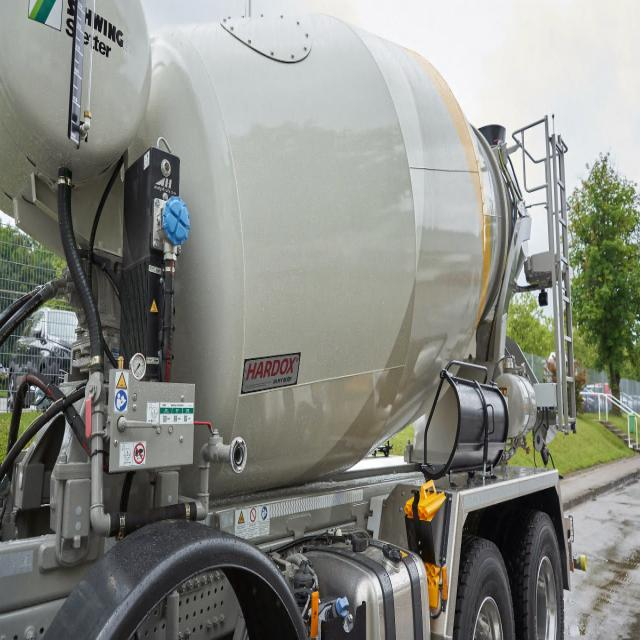truck: (0, 1, 575, 640)
